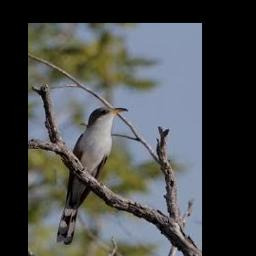Cuckoo: (57, 107, 128, 245)
